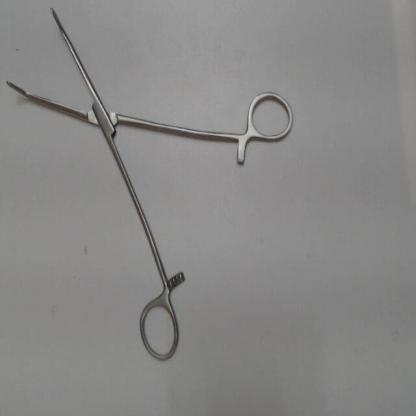Lahey Forceps: (1, 2, 302, 371)
